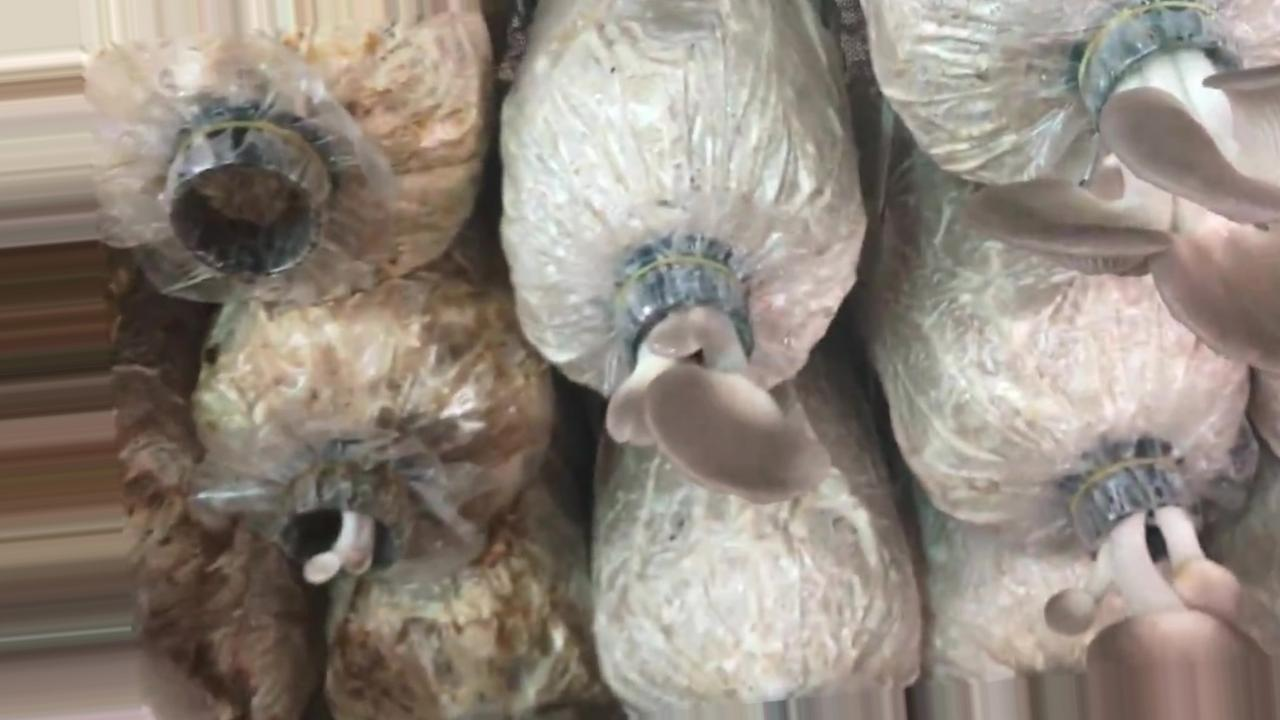nam: (959, 1, 1280, 377), (1042, 460, 1276, 720), (606, 259, 834, 502), (280, 456, 414, 585)
